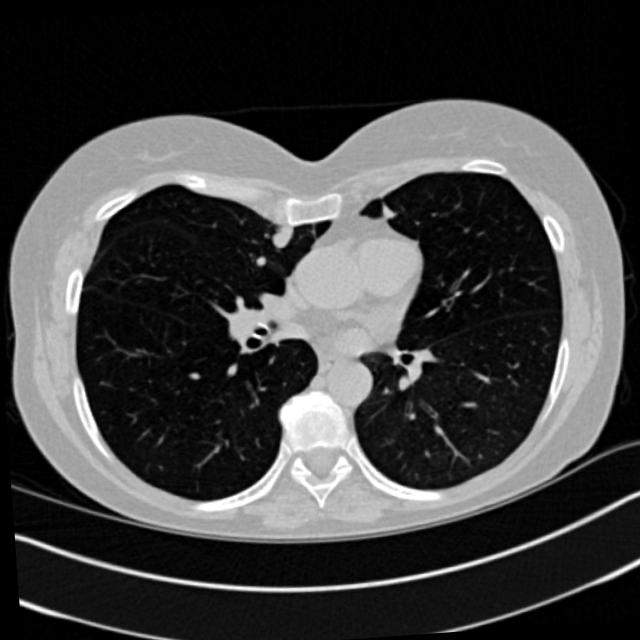nodule: (246, 246, 273, 274)
